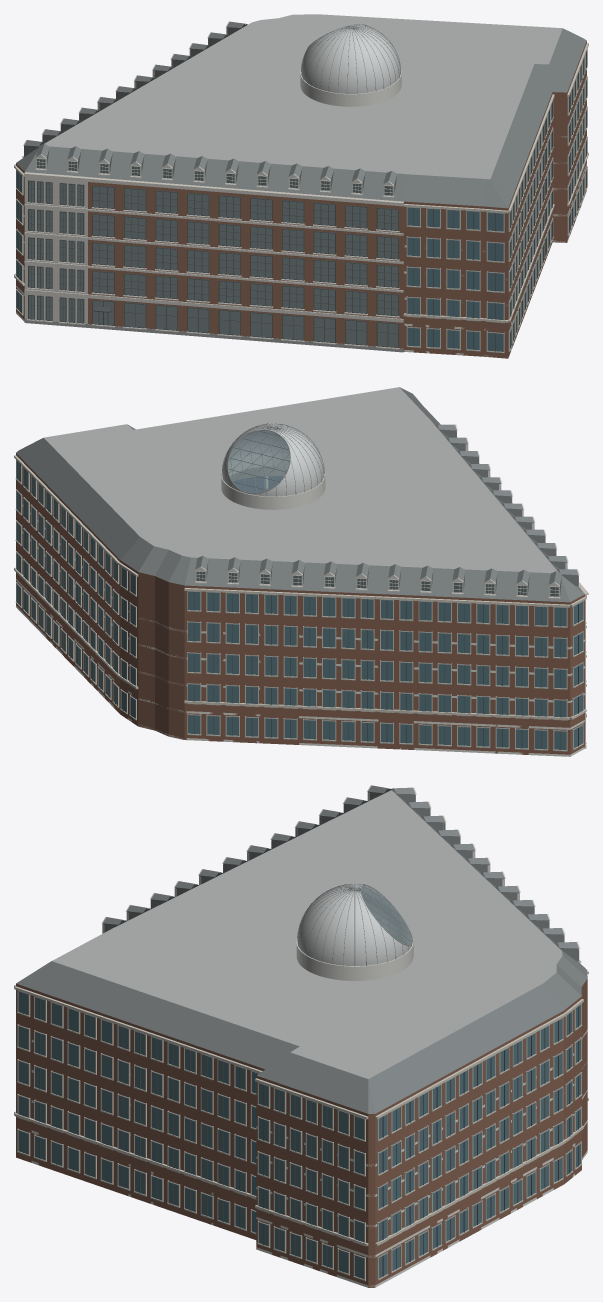
Rendered from lrb-exterior-ac1b40fa1953.glb.
3 views of the same model, one above another, from view 1: azimuth 30°, elevation 25°; view 2: azimuth 150°, elevation 25°; view 3: azimuth 270°, elevation 25° (orthographic). The views are drawn at different scales.
Parts seen in each view (by area): view 1: LRB.001; view 2: LRB.001; view 3: LRB.001.
Boxes of the visible parts, <box> form: LRB.001: <box>14,14,588,358</box>; LRB.001: <box>14,387,588,756</box>; LRB.001: <box>14,785,588,1287</box>.
Bounding box in the file's own units: 89.68 × 34.68 × 68.9.
